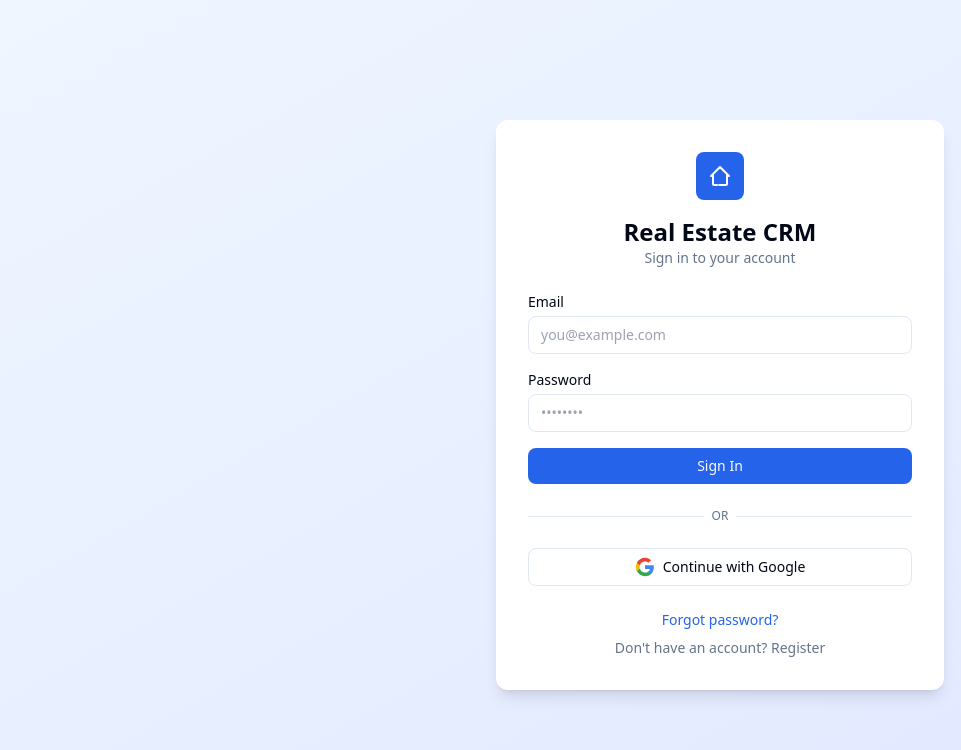
LoginPage › shows Firebase auth error messages
Type "unknown@example.com" into the field with placeholder "you@example.com". click: [720, 335]
box: [528,316,912,354]
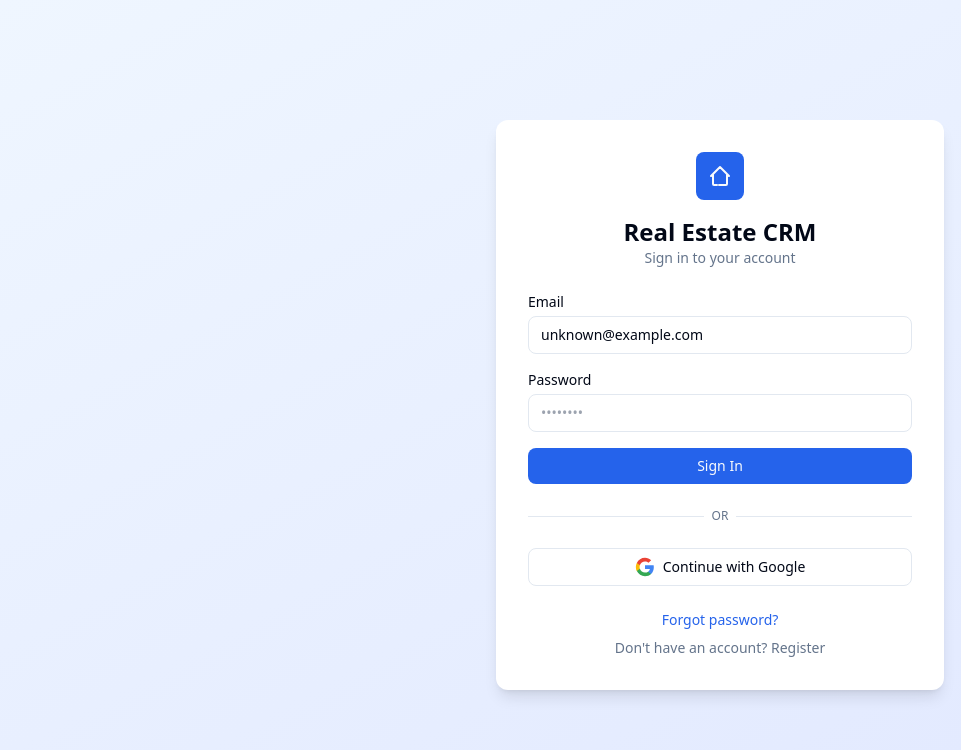
Type "password" into the password field with placeholder "••••••••". click: [720, 413]
box: [528,394,912,432]
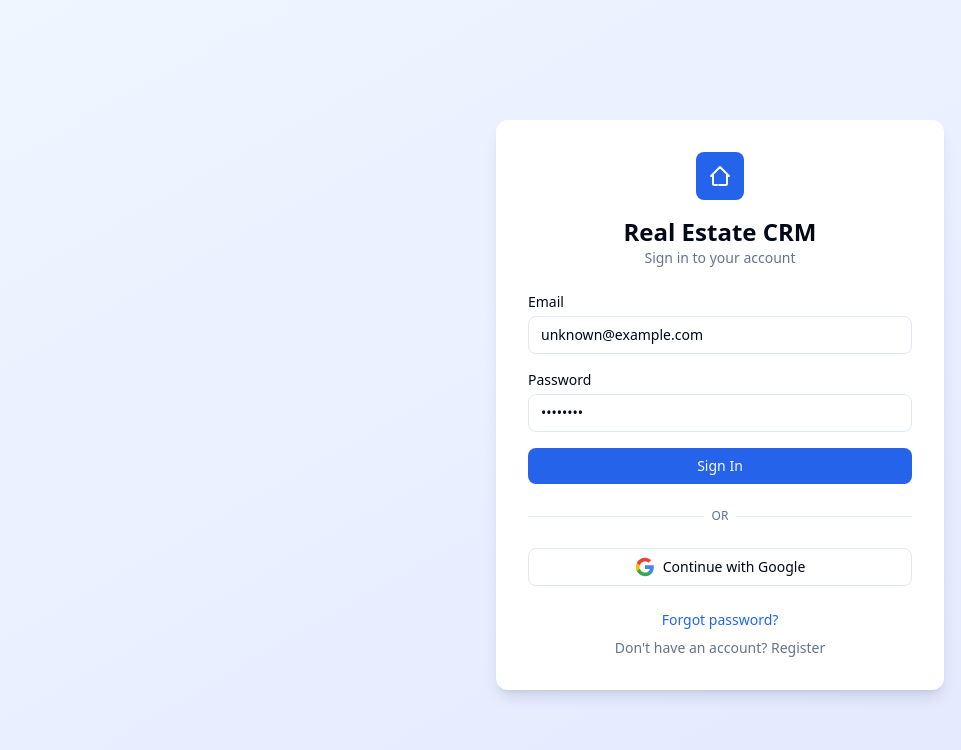
Click the button "Sign In". click: [720, 466]
box: [528,448,912,484]
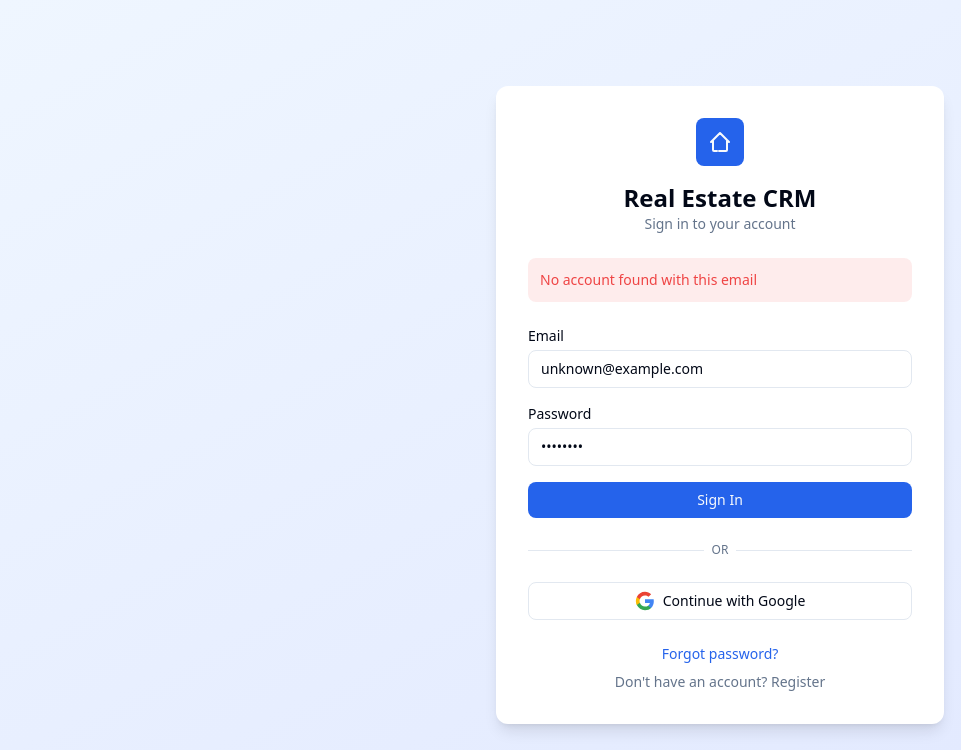
expect the text "No account found with this email" is shown: met, box [528,258,912,302]
